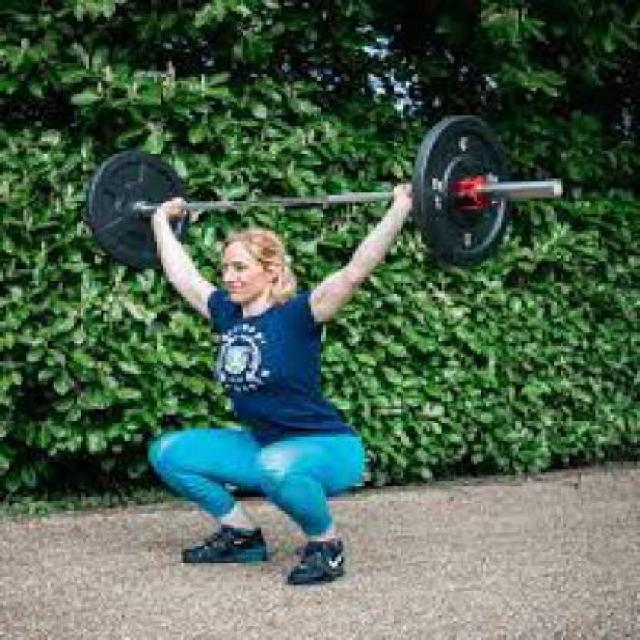barbell: (410, 106, 519, 275)
